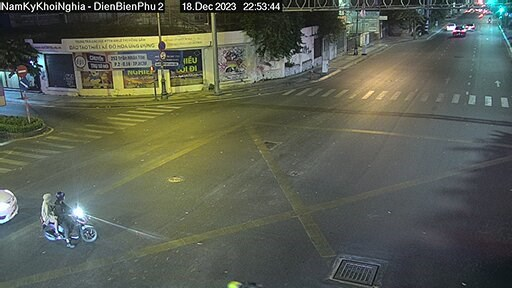car: (452, 24, 467, 38)
motorbike: (39, 192, 99, 248)
